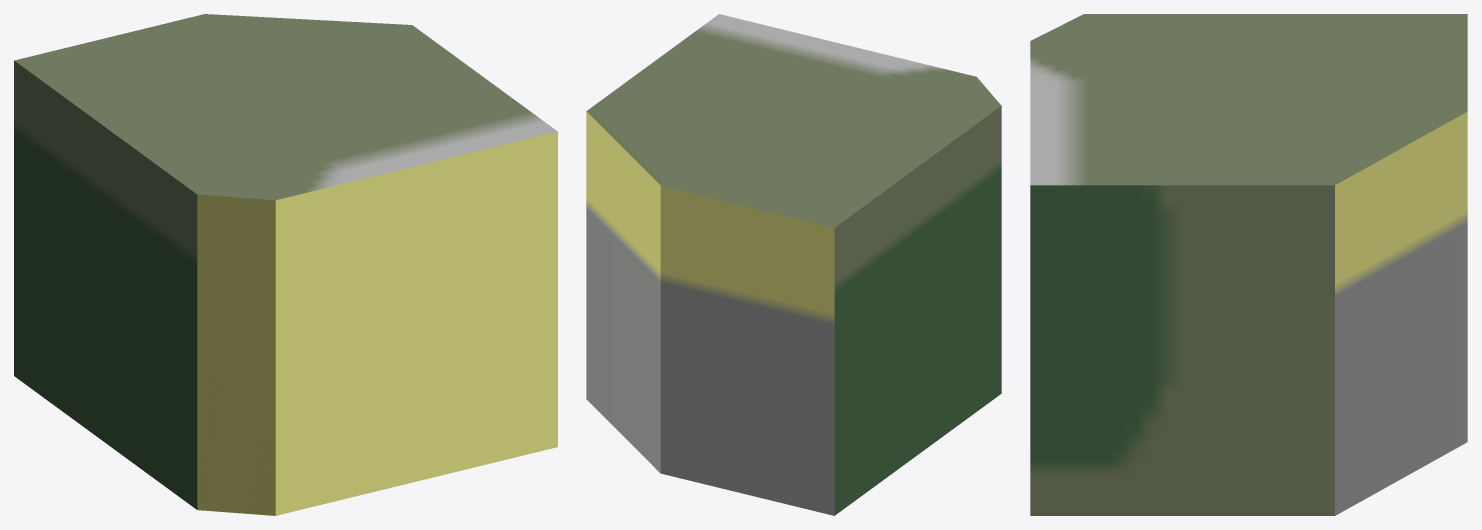
The model's file is 2W_3F_building_parts6.fbx.
3 renders of one model, left to right at view 1: azimuth 30°, elevation 25°; view 2: azimuth 150°, elevation 25°; view 3: azimuth 270°, elevation 25°, orthographic. The views are drawn at different scales.
Parts seen in each view (by area): view 1: Object139; view 2: Object139; view 3: Object139.
Part boxes in pixels (bbox=[...]): Object139: bbox=[14, 14, 557, 515]; Object139: bbox=[586, 14, 1001, 515]; Object139: bbox=[1030, 14, 1467, 515].
Size of the model in its own units: 186 by 167 by 200.
